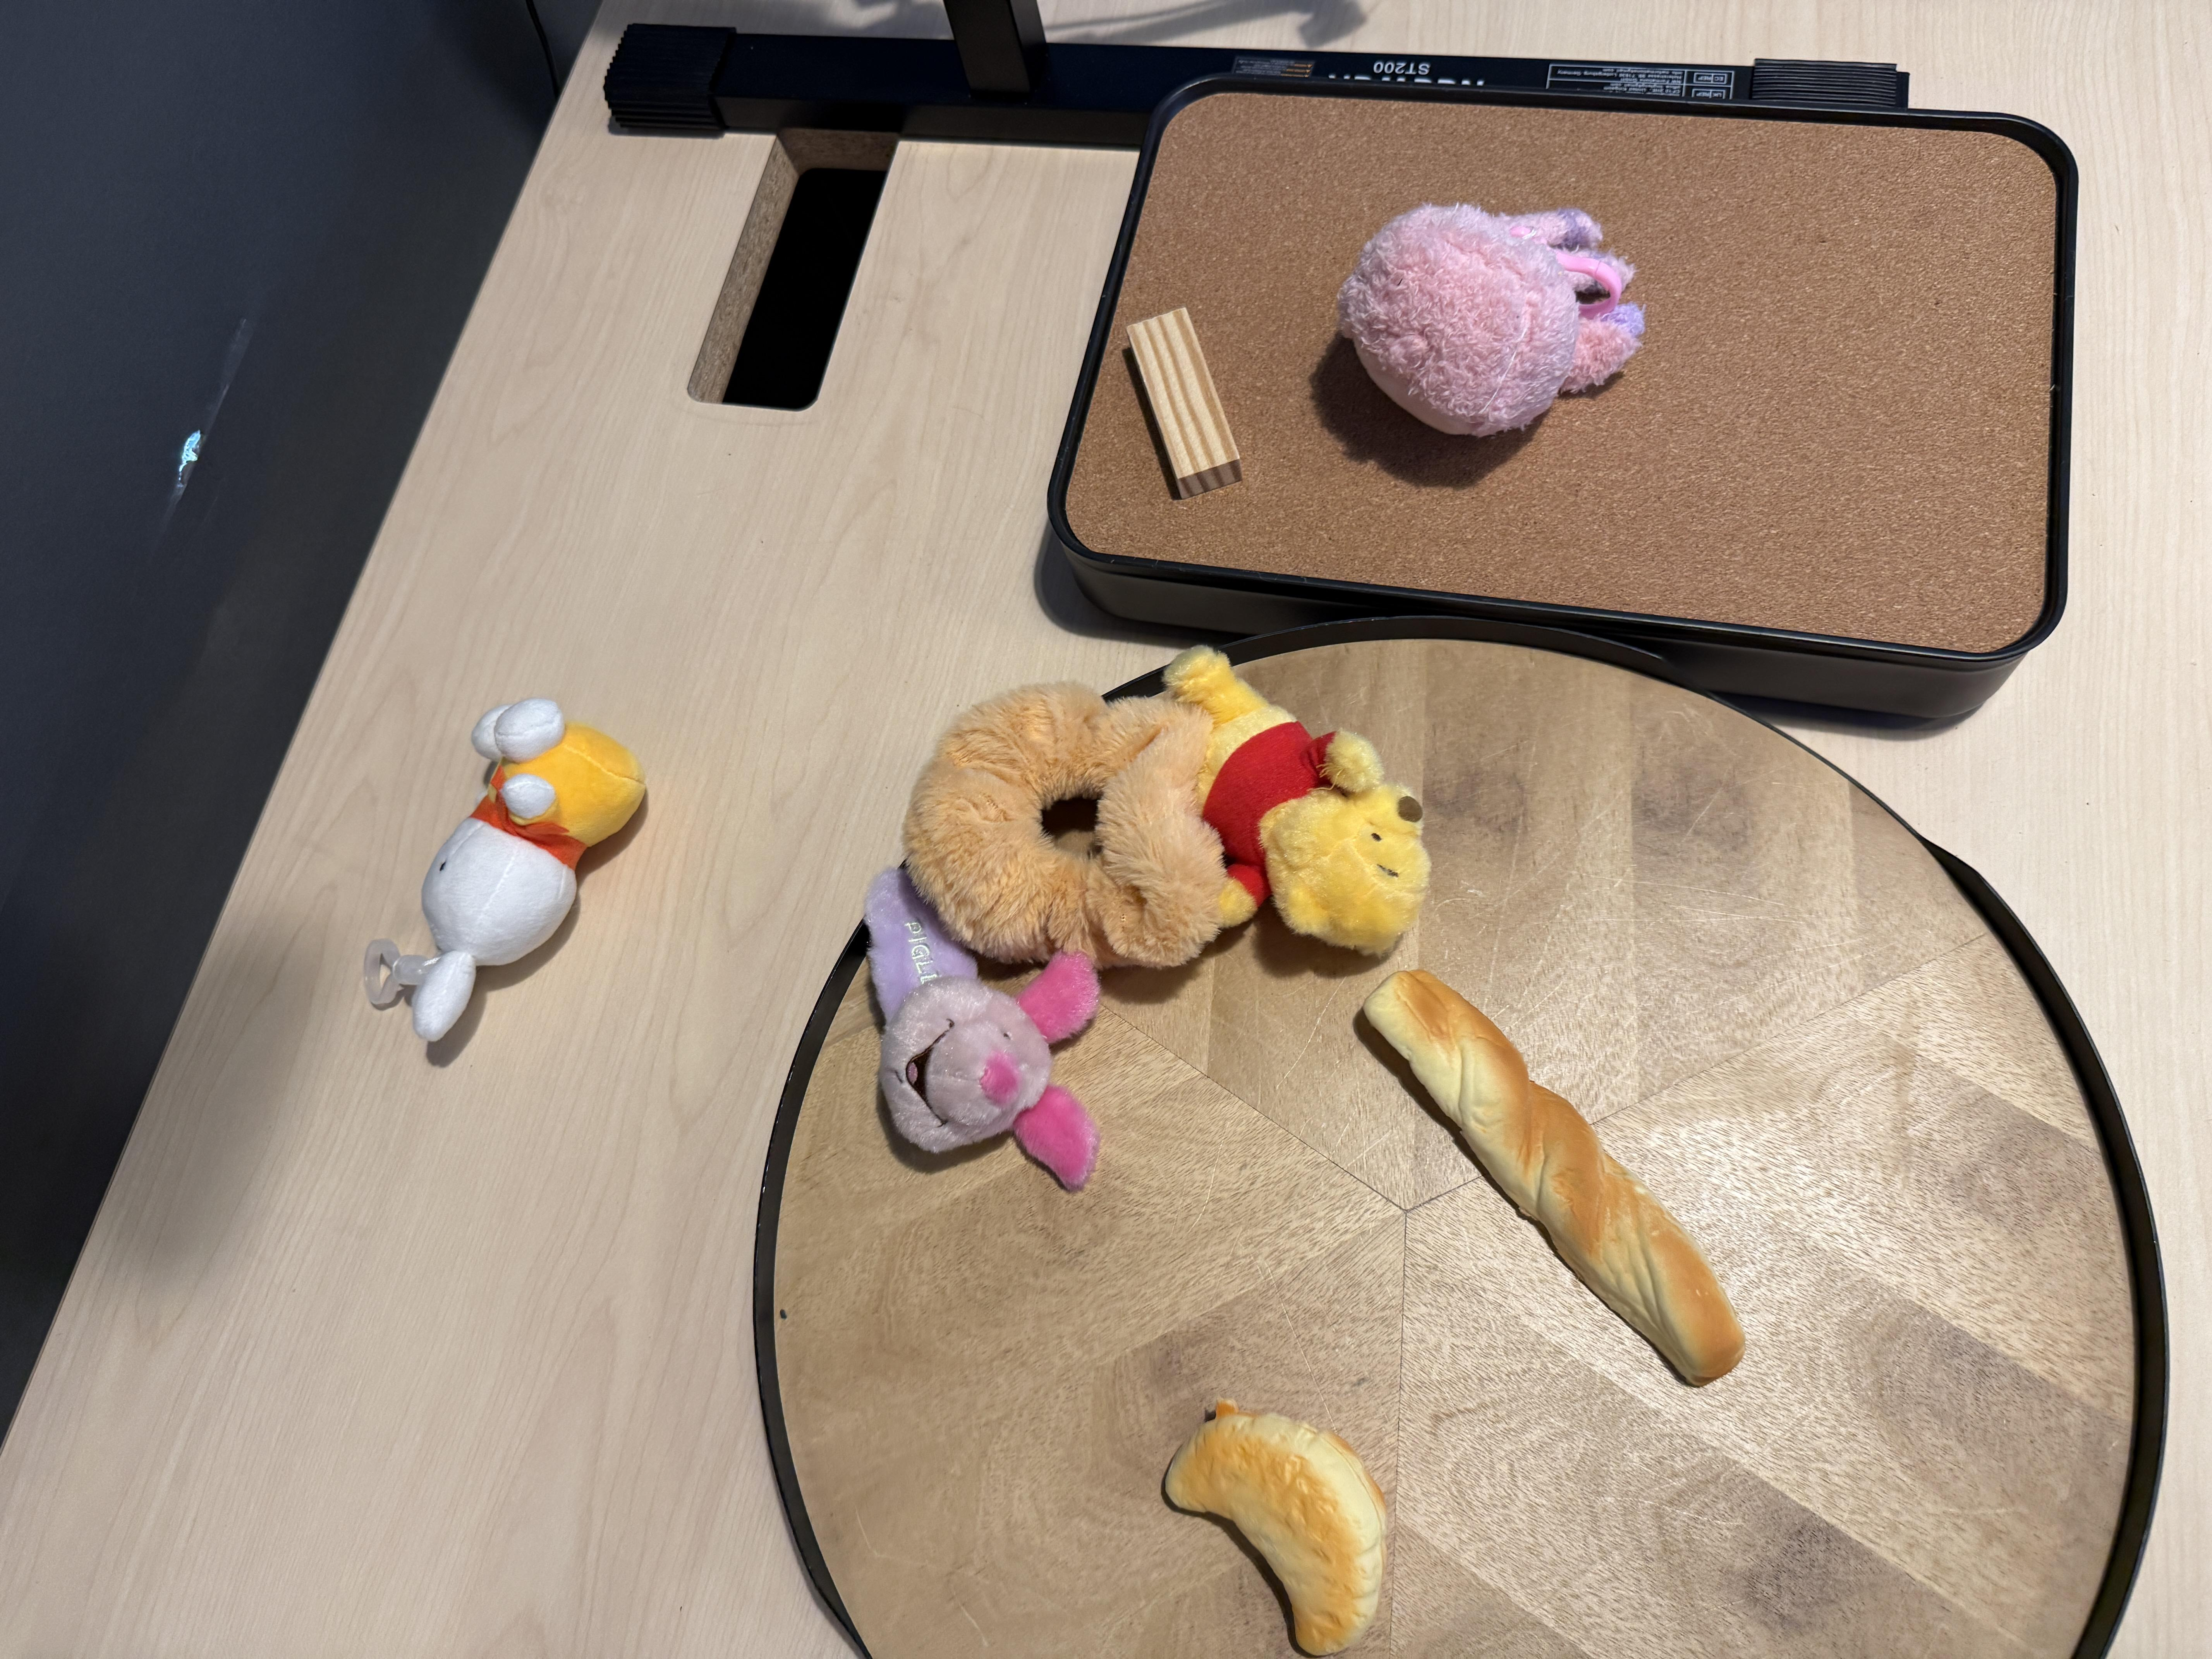block: (1125, 308, 1247, 495)
bread: (1366, 965, 1752, 1389), (1160, 1408, 1402, 1654)
doll: (907, 641, 1428, 967), (371, 697, 650, 1042), (860, 870, 1101, 1194), (1338, 202, 1646, 448)
